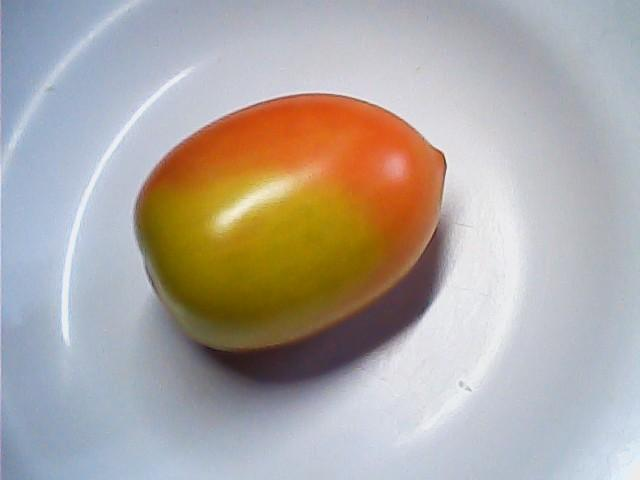verde: (132, 87, 451, 355)
